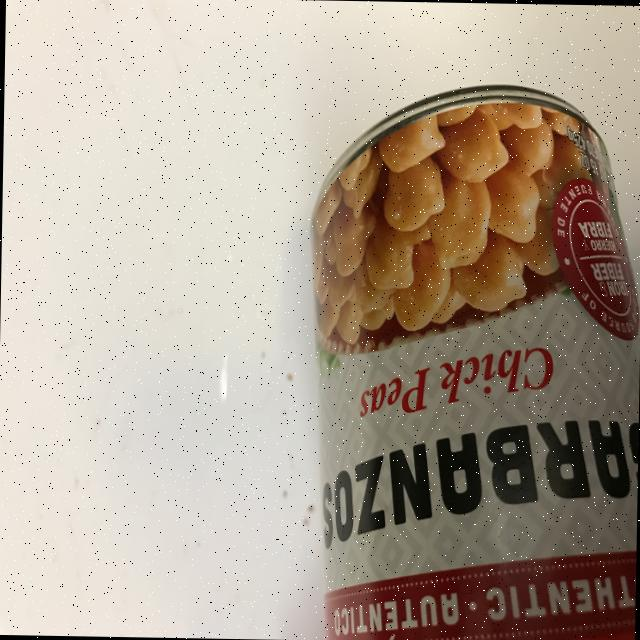metal: (303, 80, 640, 640)
